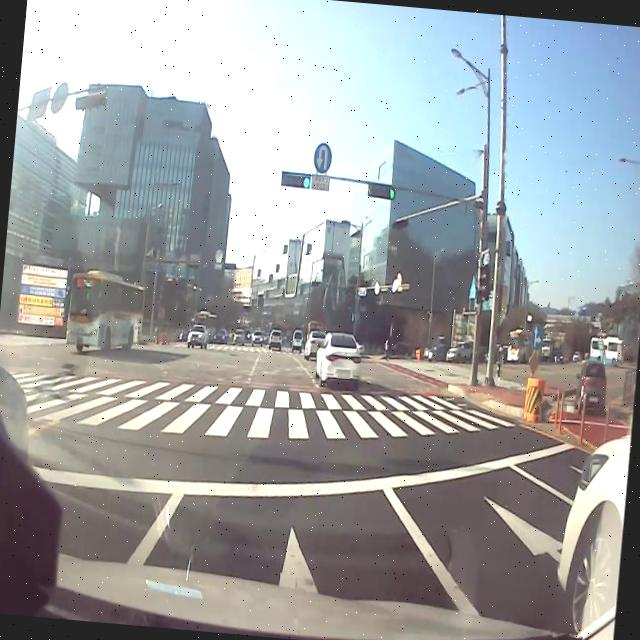crosswalk: (0, 368, 515, 438), (380, 359, 523, 386), (176, 339, 353, 358)
